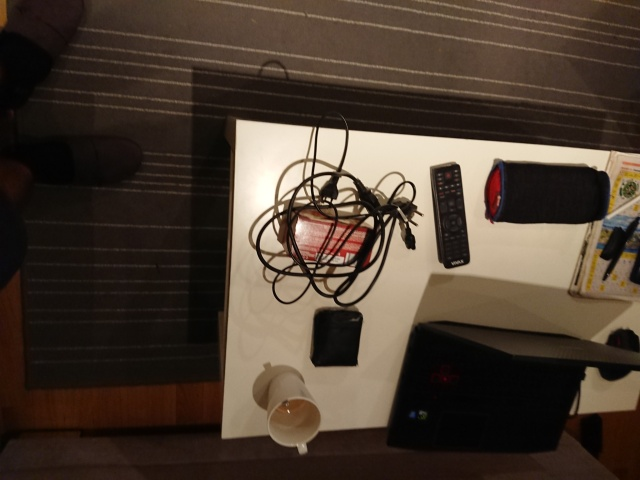Franck Apple Cinnamon Tea 60g: (279, 204, 378, 271)
